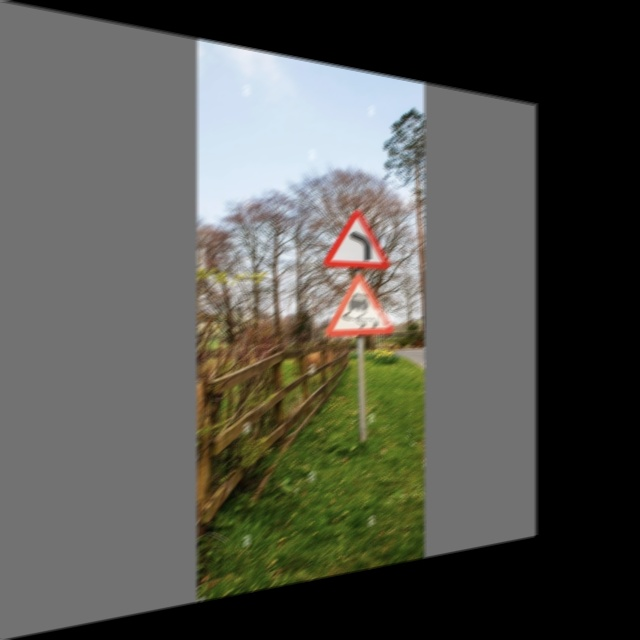Slippery_Road: (327, 271, 392, 339)
